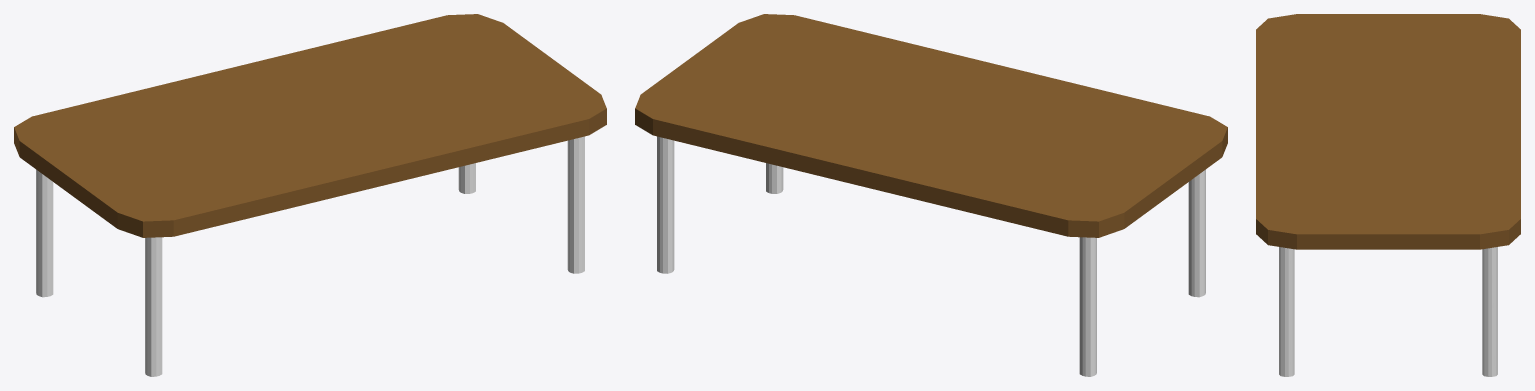
The model's file is Table_7.fbx.
3 renders of one model, left to right at view 1: azimuth 30°, elevation 25°; view 2: azimuth 150°, elevation 25°; view 3: azimuth 270°, elevation 25°, orthographic. The views are drawn at different scales.
Visible parts, largest first — view 1: Table_7; view 2: Table_7; view 3: Table_7.
Part boxes in pixels (left/top/right/bottom): Table_7: left=14, top=14, right=606, bottom=376; Table_7: left=635, top=14, right=1227, bottom=376; Table_7: left=1256, top=14, right=1520, bottom=376.
Size of the model in its own units: 1.54 by 0.4999 by 0.7831.
